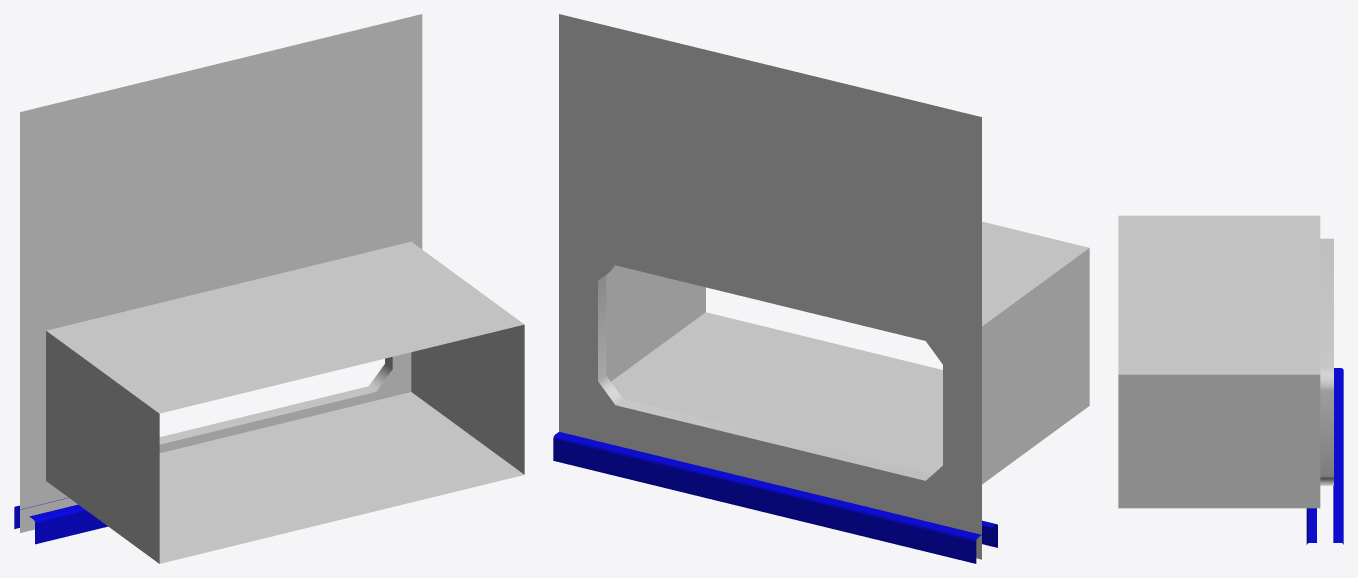
File: BedSingleWall.fbx
The picture shows the model from 3 angles, left to right: view 1: azimuth 30°, elevation 25°; view 2: azimuth 150°, elevation 25°; view 3: azimuth 270°, elevation 25°; orthographic projection. The views are drawn at different scales.
Parts seen in each view (by area): view 1: Wall, Trim; view 2: Wall, Trim; view 3: Wall, Trim.
Boxes of the visible parts, x1,y1,x2,y2 form: Wall: (20, 14, 524, 563); Trim: (14, 497, 107, 544); Wall: (559, 14, 1089, 559); Trim: (553, 431, 997, 563); Wall: (1118, 215, 1333, 508); Trim: (1306, 368, 1343, 544).
Bounding box in the file's own units: 12 × 12 × 6.54.
